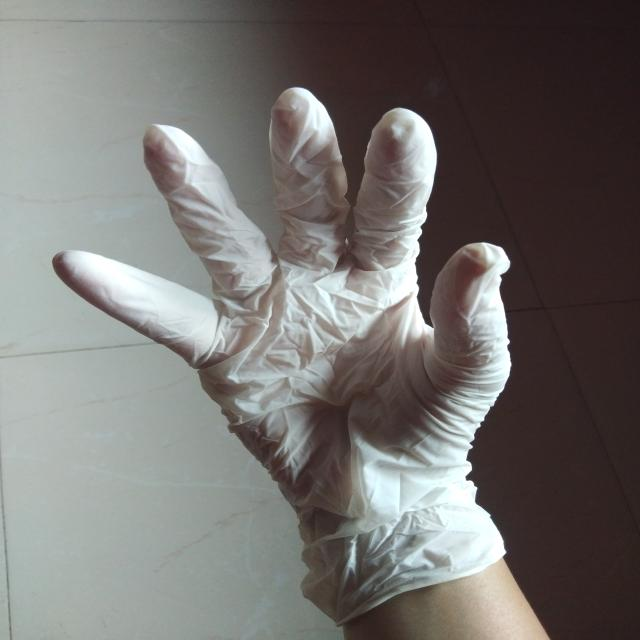glove: (47, 78, 528, 621)
